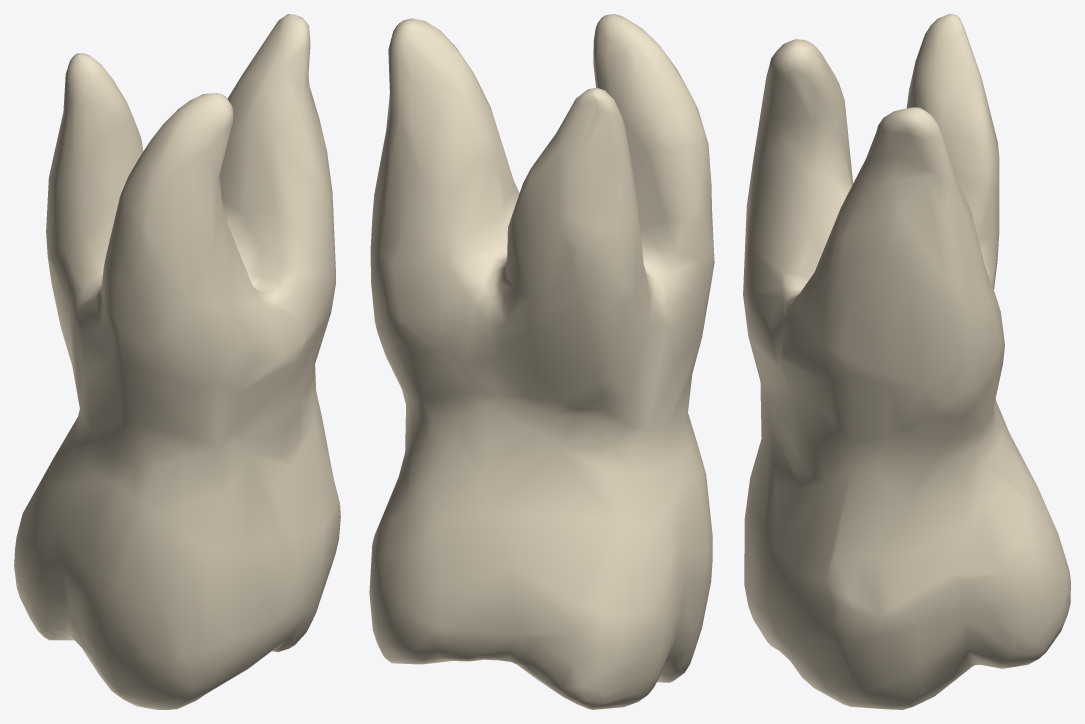
File: upper-first-molar-tooth-r.glb
3 renders of one model, left to right at view 1: azimuth 30°, elevation 25°; view 2: azimuth 150°, elevation 25°; view 3: azimuth 270°, elevation 25°, orthographic. The views are drawn at different scales.
Parts seen in each view (by area): view 1: Upper first molar tooth.r; view 2: Upper first molar tooth.r; view 3: Upper first molar tooth.r.
Part boxes in pixels (x1,y1,x2,y2): Upper first molar tooth.r: (14, 14, 340, 709); Upper first molar tooth.r: (369, 14, 714, 709); Upper first molar tooth.r: (743, 14, 1070, 709).
Size of the model in its own units: 0.0113 by 0.024 by 0.0113.
